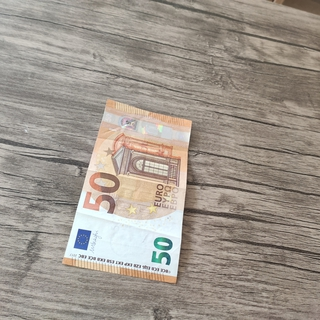50EUROFront: (60, 97, 192, 285)
